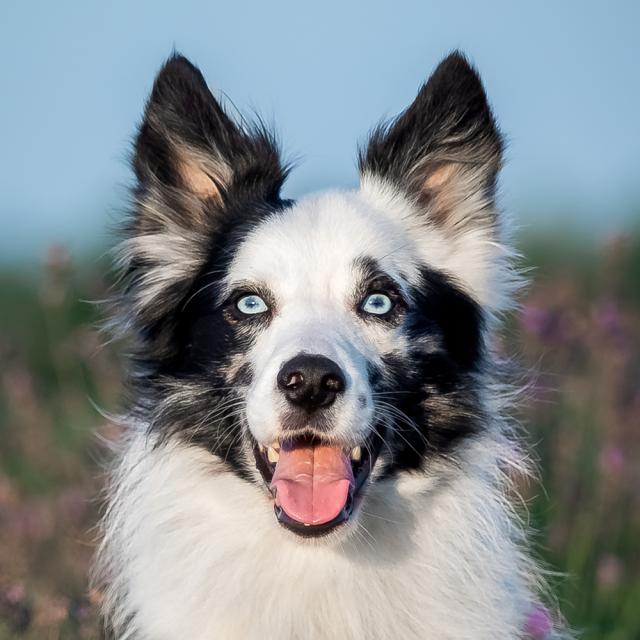ALASKAN_MALAMUTE: (77, 36, 579, 640)
